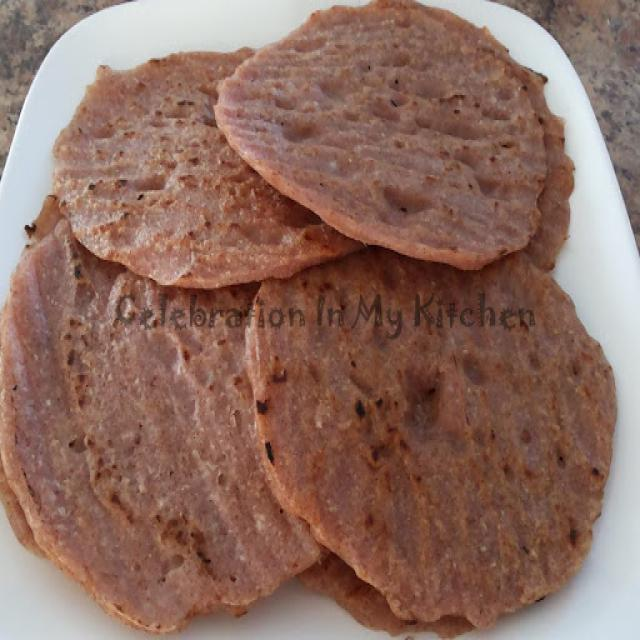DOSA: (0, 200, 320, 630)
ROTI: (244, 247, 615, 632), (215, 0, 564, 267)
